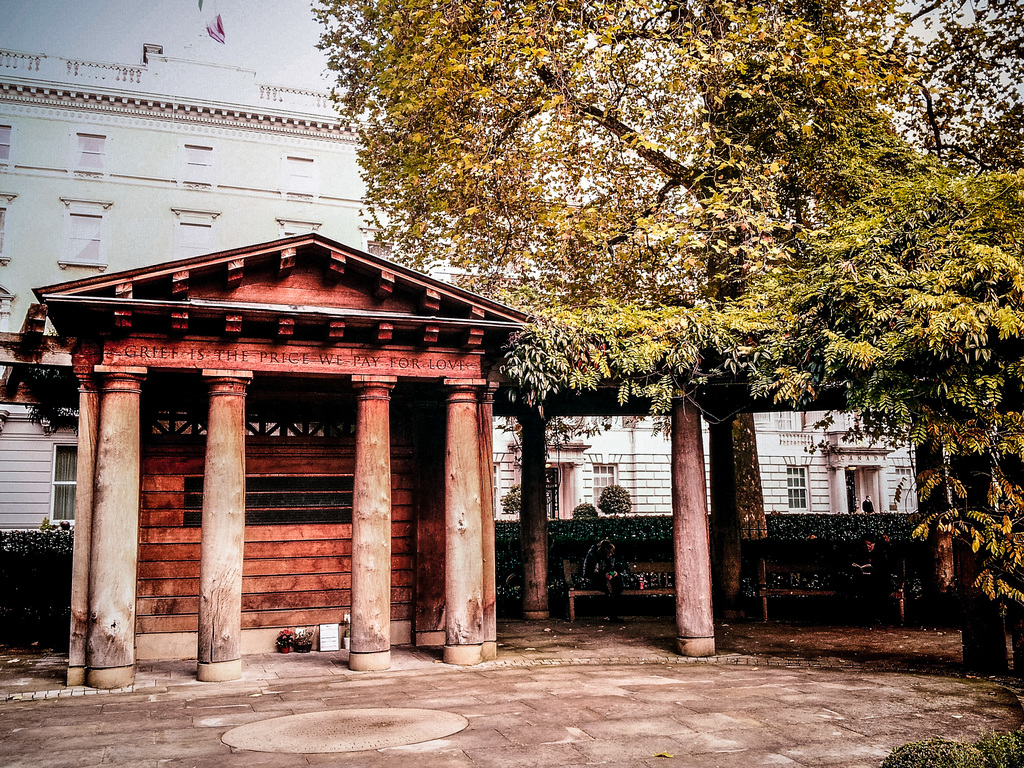Tree: (232, 0, 1013, 631)
